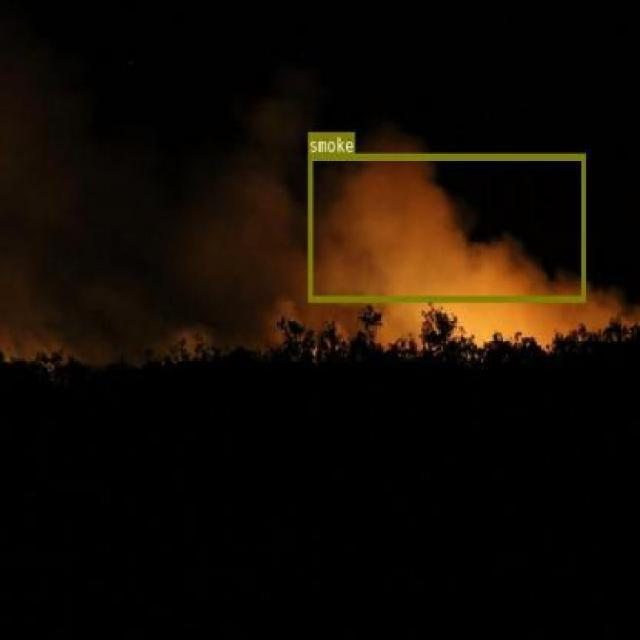Smoke: (308, 152, 584, 302)
